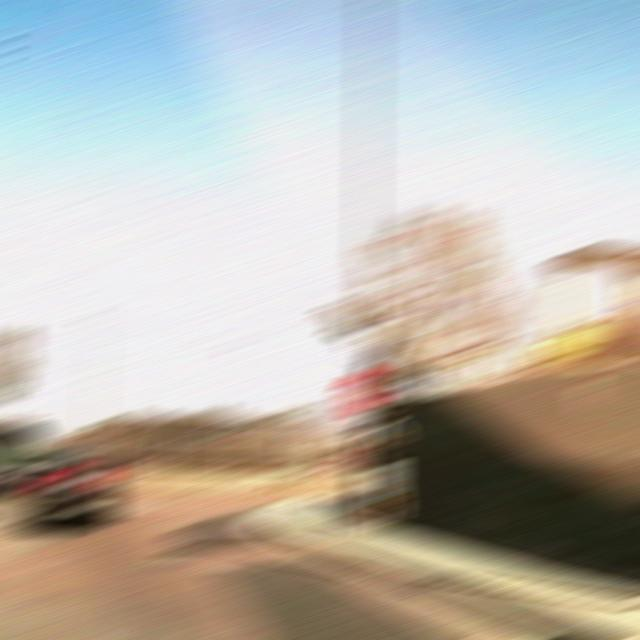stop: (338, 368, 388, 412)
